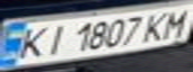0: (106, 16, 130, 48)
1: (69, 19, 93, 53)
7: (121, 12, 148, 46)
8: (90, 17, 112, 52)
I: (36, 21, 72, 56)
K: (9, 24, 54, 61), (139, 9, 175, 43)
M: (157, 5, 193, 39)
